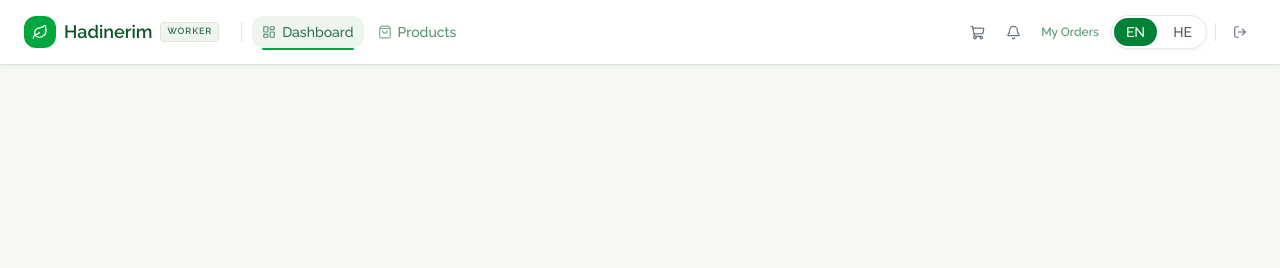
it: WorkerNavbar — bell / notification panel › renders active task items in the panel
Click the button named "task notifications". click: (1013,32)
box: [997,16,1029,48]
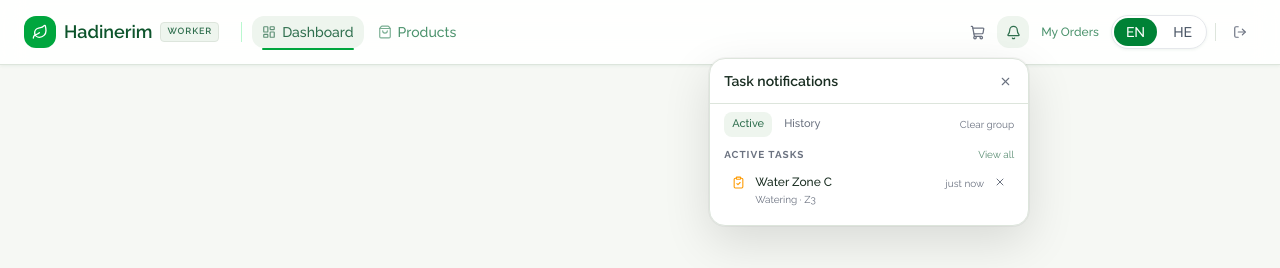
Expected: the text "Water Zone C" is shown, [755,174,832,188]
